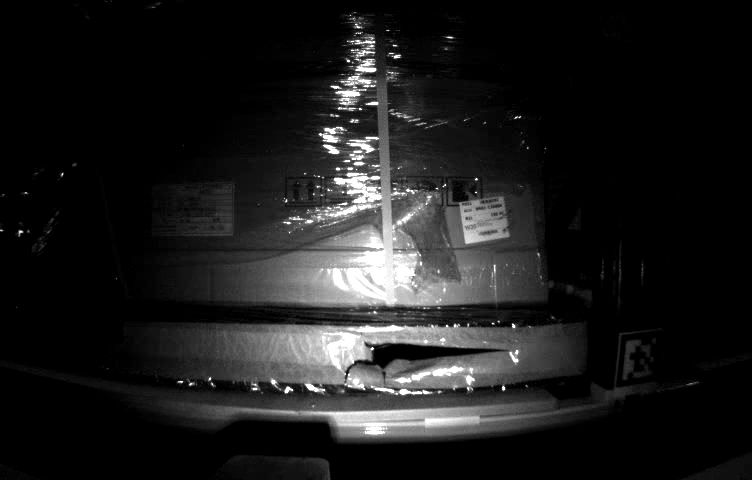True Barcode: (457, 193, 510, 244)
